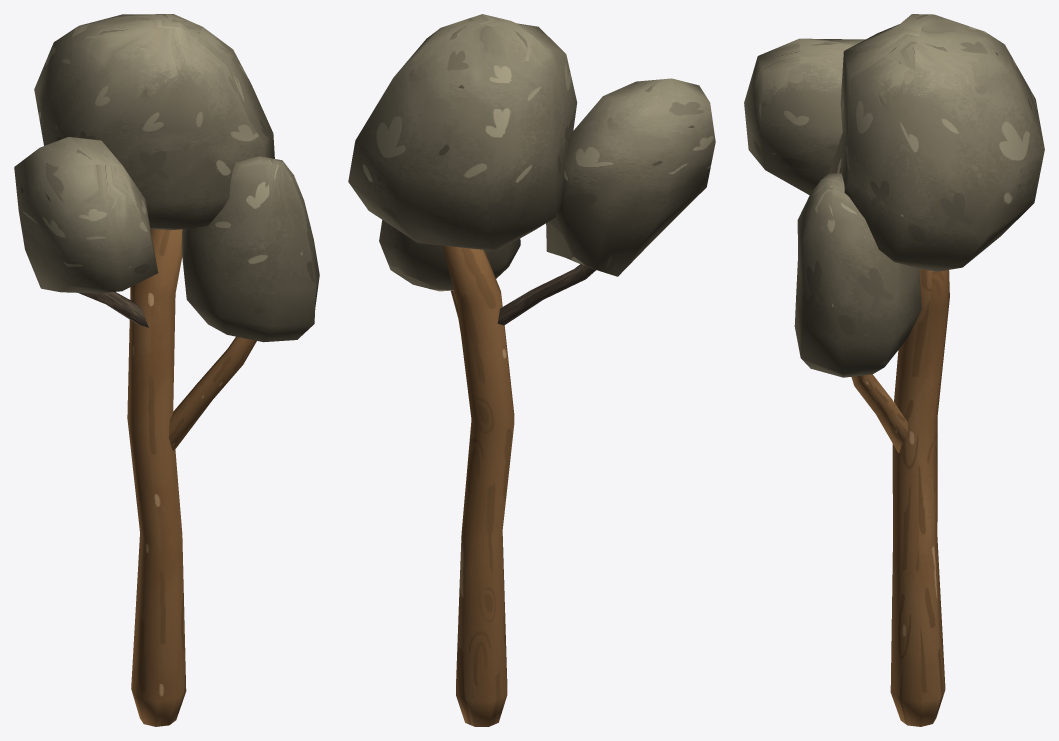
The model's file is Beuk1.fbx.
The picture shows the model from 3 angles, left to right: view 1: azimuth 30°, elevation 25°; view 2: azimuth 150°, elevation 25°; view 3: azimuth 270°, elevation 25°; orthographic projection. The views are drawn at different scales.
Visible parts, largest first — view 1: BOOM1; view 2: BOOM1; view 3: BOOM1.
Boxes of the visible parts, x1,y1,x2,y2 form: BOOM1: (14,14,319,726); BOOM1: (348,14,715,726); BOOM1: (744,14,1044,726).
Bounding box in the file's own units: 1653 × 3846 × 1527.
